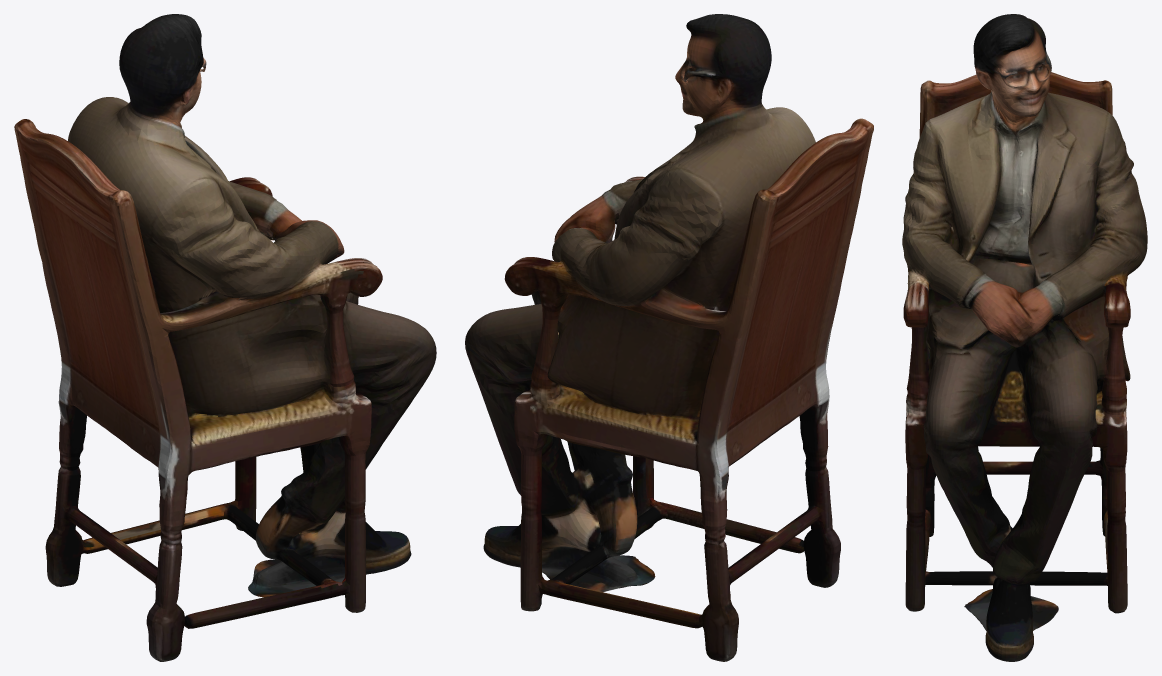
File: modelo29.glb
3 renders of one model, left to right at view 1: azimuth 30°, elevation 25°; view 2: azimuth 150°, elevation 25°; view 3: azimuth 270°, elevation 25°, orthographic. The views are drawn at different scales.
Visible parts, largest first — view 1: tripo_node_33216a57-52b9-4da5-a72a-7086319957a3; view 2: tripo_node_33216a57-52b9-4da5-a72a-7086319957a3; view 3: tripo_node_33216a57-52b9-4da5-a72a-7086319957a3.
Boxes of the visible parts, x1,y1,x2,y2 form: tripo_node_33216a57-52b9-4da5-a72a-7086319957a3: (14, 14, 436, 661); tripo_node_33216a57-52b9-4da5-a72a-7086319957a3: (465, 14, 873, 661); tripo_node_33216a57-52b9-4da5-a72a-7086319957a3: (902, 14, 1147, 661).
Bounding box in the file's own units: 0.6102 × 0.9997 × 0.412.
1 material, 1 textured.
